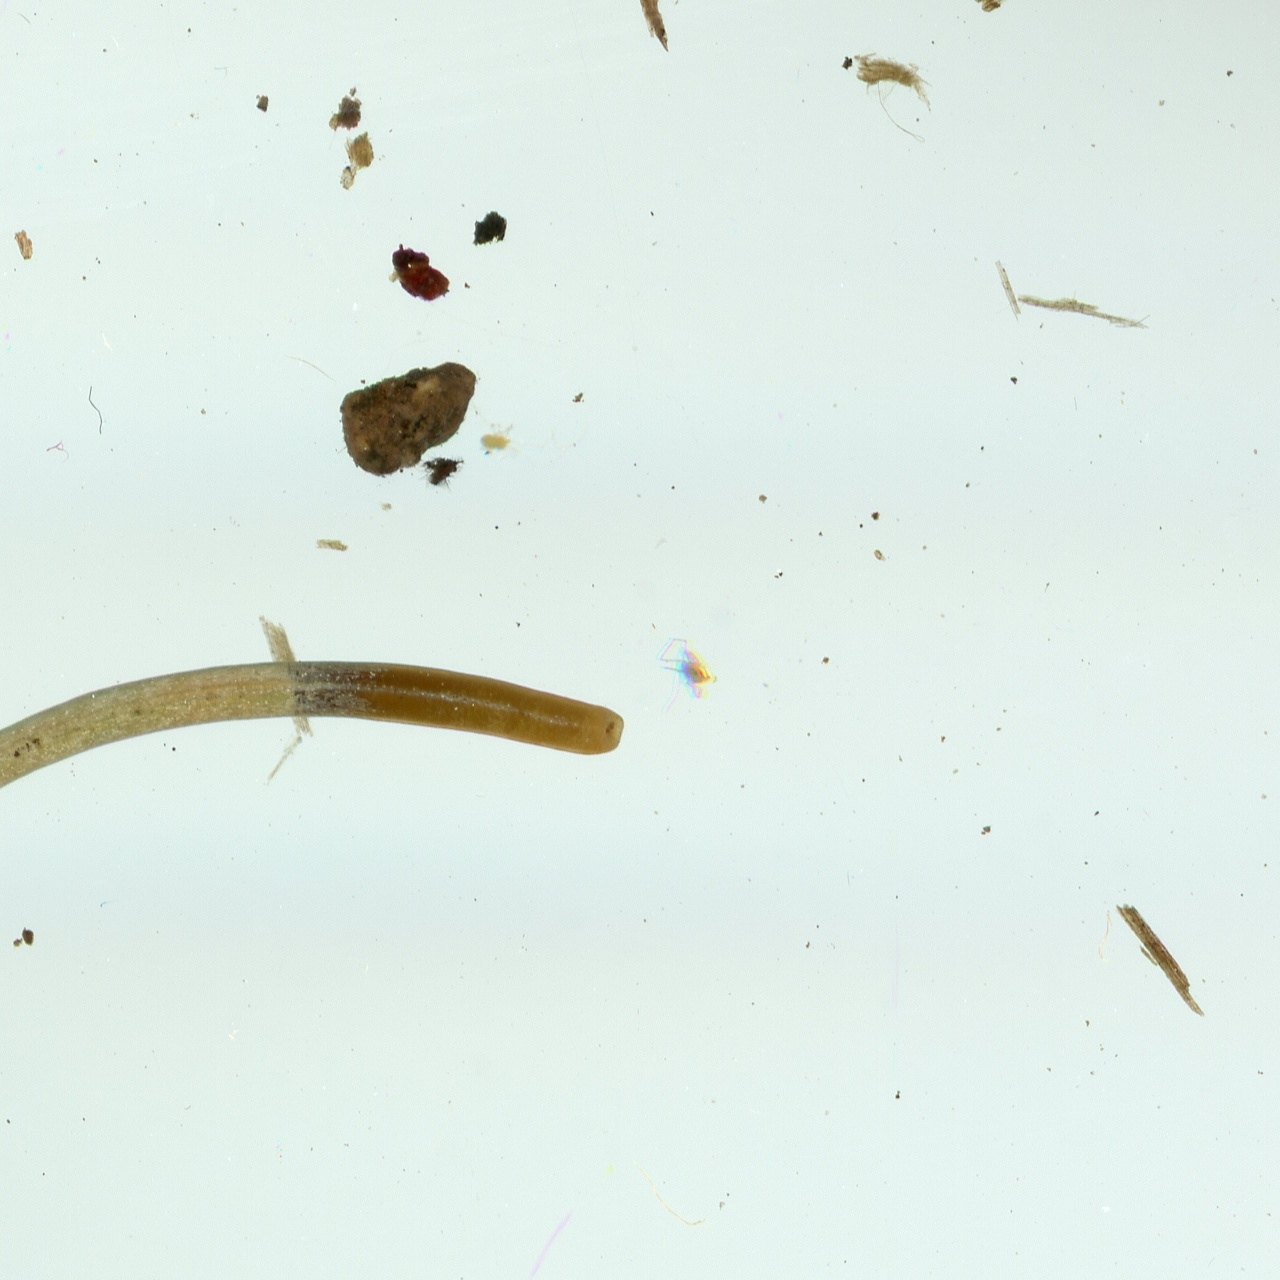arthropod: (632, 624, 730, 721), (470, 403, 587, 474)
